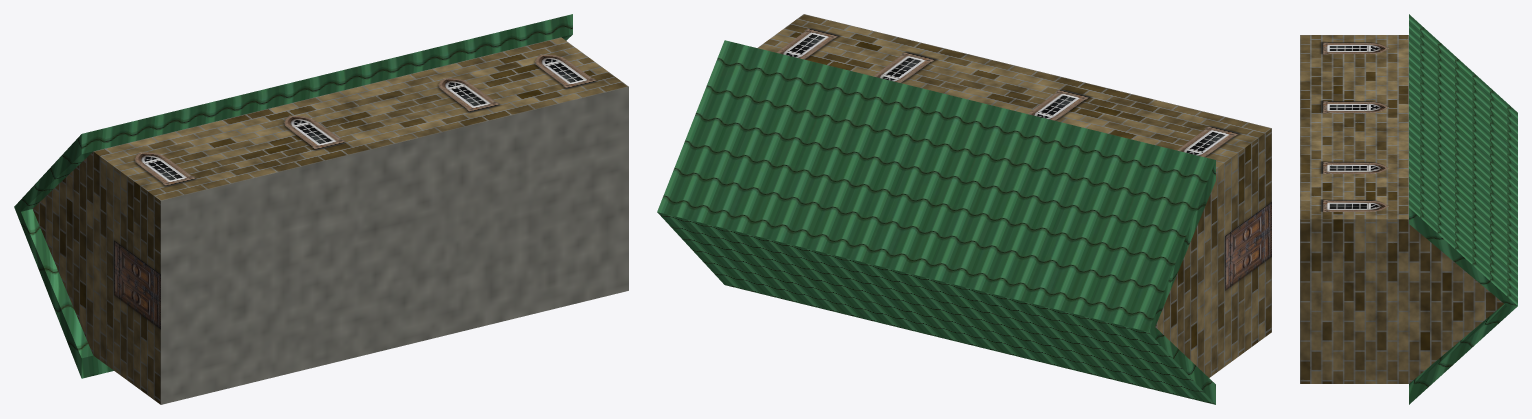
File: House.fbx
3 renders of one model, left to right at view 1: azimuth 30°, elevation 25°; view 2: azimuth 150°, elevation 25°; view 3: azimuth 270°, elevation 25°, orthographic. The views are drawn at different scales.
Visible parts, largest first — view 1: House; view 2: House; view 3: House.
Part boxes in pixels (x1=…): House: x1=14, y1=14, x2=628, y2=404; House: x1=657, y1=14, x2=1271, y2=404; House: x1=1300, y1=14, x2=1517, y2=404.
Size of the model in its own units: 2100 by 1000 by 1000.
